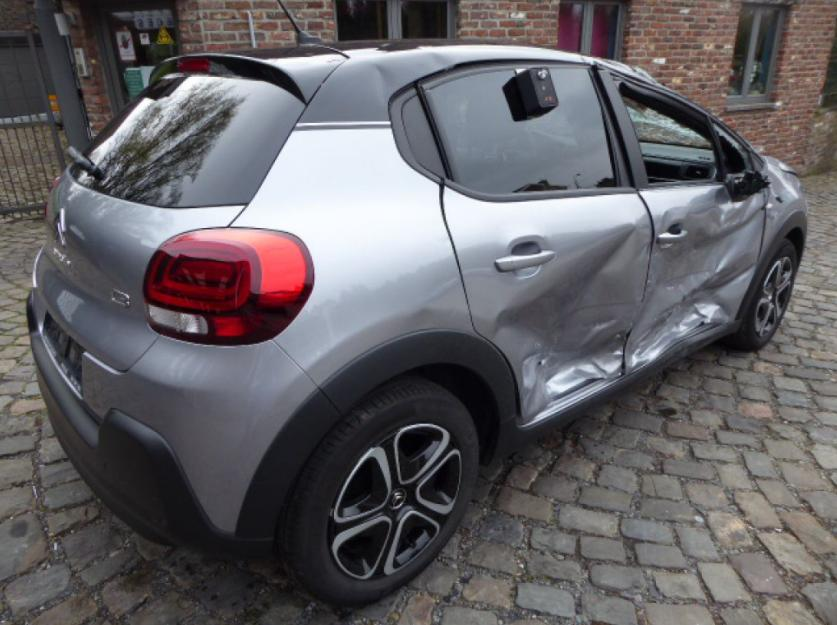Back-bumper: (26, 268, 338, 559)
Back-door: (426, 62, 653, 418)
Back-wheel: (274, 378, 483, 609)
Back-window: (424, 64, 618, 195), (401, 99, 446, 177)
Back-windshield: (71, 66, 301, 207)
Fender: (740, 161, 809, 314)
Front-door: (603, 68, 767, 372)
Front-wheel: (730, 239, 796, 349)
Front-window: (618, 82, 722, 184), (714, 123, 754, 173)
Hood: (762, 156, 799, 175)
License-plate: (41, 317, 84, 396)
Mirror: (724, 173, 767, 197)
Quarter-panel: (233, 127, 523, 421)
Rocker-panel: (502, 321, 740, 452)
Roof: (320, 38, 585, 61)
Tail-light: (144, 230, 314, 345)
Trunk: (35, 44, 347, 372)
